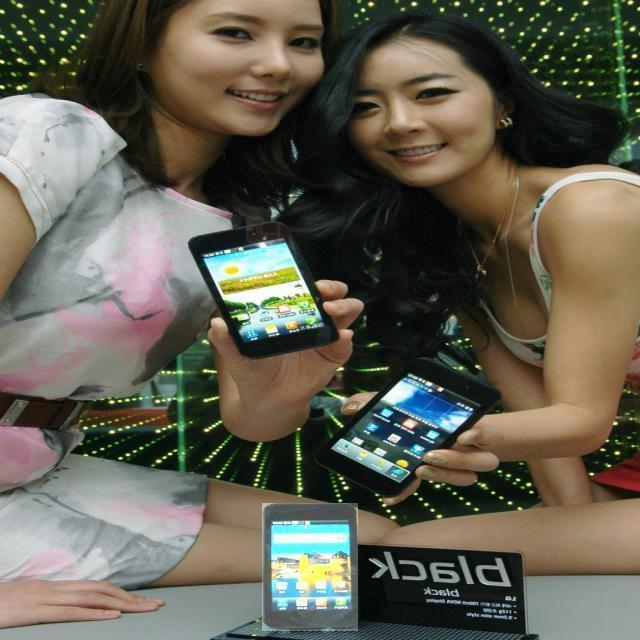mobile: (311, 362, 505, 499), (193, 222, 339, 358), (262, 504, 358, 632)
